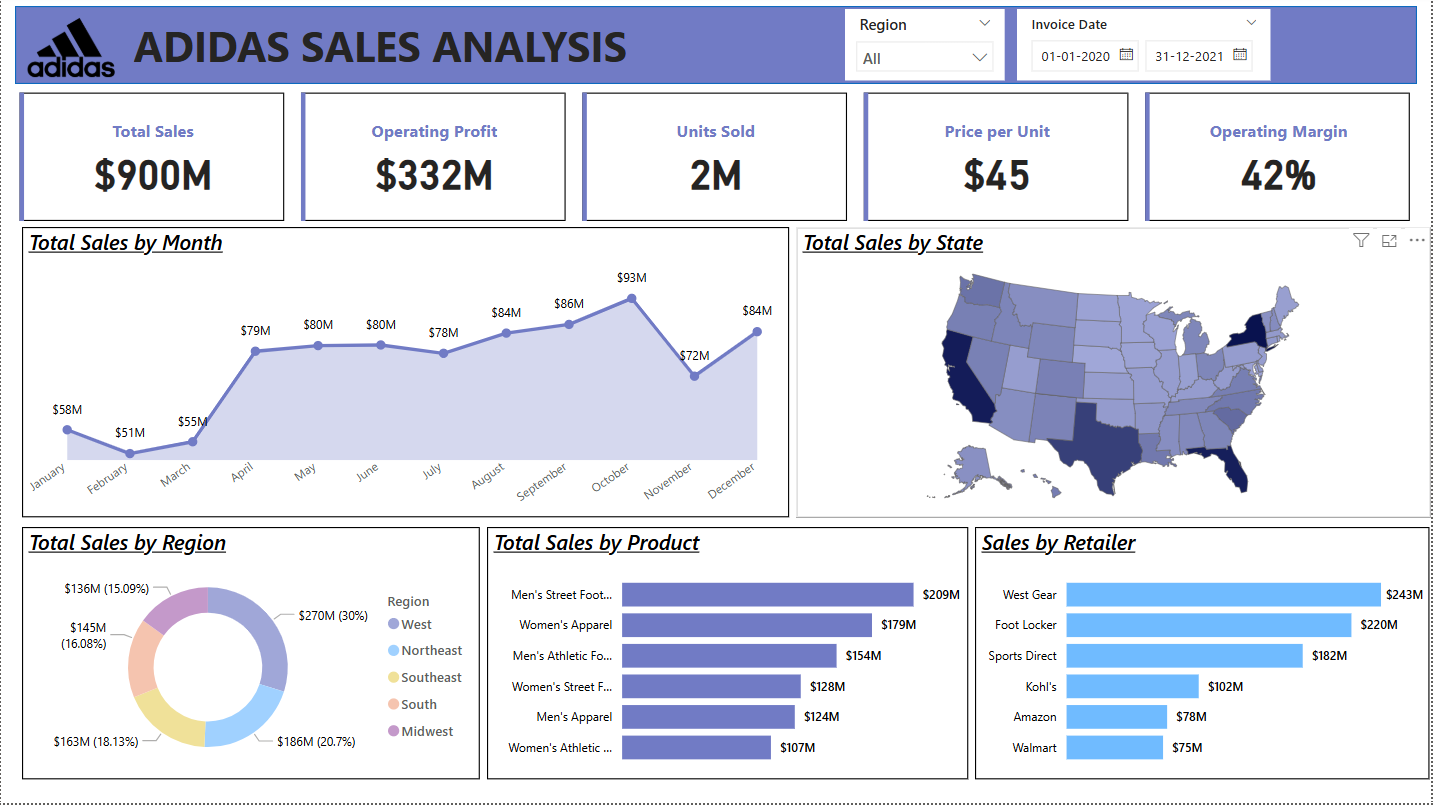

The page's visual inventory and layout, read from the dashboard file:
{"tool":"powerbi","page":{"name":"Page 1","canvas":[1280,720],"ordinal":0},"visuals":[{"type":"shape","box":[12.5,5.4,1255.5,69.9],"z":0},{"type":"image","box":[18.8,8.1,87.8,69.9],"z":1000},{"type":"textbox","box":[113.7,10.7,470.1,64.5],"z":2000},{"type":"cardVisual","fields":{"Data":["Sum(Data Sales Adidas.Total Sales)","Sum(Data Sales Adidas.Operating Profit)","Sum(Data Sales Adidas.Units Sold)","Avg(Data Sales Adidas.Price per Unit)","Avg(Data Sales Adidas.Operating Margin)"]},"box":[11.6,77.9,1256.4,125.4],"z":3000},{"type":"areaChart","title":"Total Sales by Month","fields":{"Category":["Data Sales Adidas.Invoice Date.Variation.Date Hierarchy.Month"],"Y":["Sum(Data Sales Adidas.Total Sales)"]},"box":[18.8,203.3,686.9,259.7],"z":4000},{"type":"shapeMap","title":"Total Sales by State","fields":{"Category":["Data Sales Adidas.State"],"Value":["Sum(Data Sales Adidas.Total Sales)"]},"box":[711.9,203.3,567.8,259.7],"z":5000},{"type":"donutChart","fields":{"Category":["Data Sales Adidas.Region"],"Y":["Sum(Data Sales Adidas.Total Sales)"]},"box":[18.8,471.9,410,226],"z":6000},{"type":"barChart","title":"Total Sales by Product","fields":{"Category":["Data Sales Adidas.Product"],"Y":["Sum(Data Sales Adidas.Total Sales)"]},"box":[435.2,471.9,430.7,225.7],"z":7000},{"type":"barChart","title":"Sales by Retailer","fields":{"Y":["Sum(Data Sales Adidas.Total Sales)"],"Category":["Data Sales Adidas.Retailer"]},"box":[872.2,471.9,407.5,225.7],"z":8000},{"type":"slicer","fields":{"Values":["Data Sales Adidas.Region"]},"box":[755.8,8.1,143.3,64.5],"z":9000},{"type":"slicer","fields":{"Values":["Data Sales Adidas.Invoice Date"]},"box":[909.9,8.1,227.5,64.5],"z":9001}]}

Visuals, with their boxes in screenshot pixels (x1, y1, x2, y2), scaled from the page's 1280x720 canvas onto the 1438x805 screenshot:
shape: bbox=[14, 6, 1425, 84]
image: bbox=[21, 9, 120, 87]
textbox: bbox=[128, 12, 656, 84]
cardVisual - Sum(Data Sales Adidas.Total Sales) x Sum(Data Sales Adidas.Operating Profit): bbox=[13, 87, 1425, 227]
"Total Sales by Month" areaChart: bbox=[21, 227, 793, 518]
"Total Sales by State" shapeMap: bbox=[800, 227, 1437, 518]
donutChart - Data Sales Adidas.Region x Sum(Data Sales Adidas.Total Sales): bbox=[21, 528, 482, 780]
"Total Sales by Product" barChart: bbox=[489, 528, 973, 780]
"Sales by Retailer" barChart: bbox=[980, 528, 1437, 780]
slicer - Data Sales Adidas.Region: bbox=[849, 9, 1010, 81]
slicer - Data Sales Adidas.Invoice Date: bbox=[1022, 9, 1278, 81]
